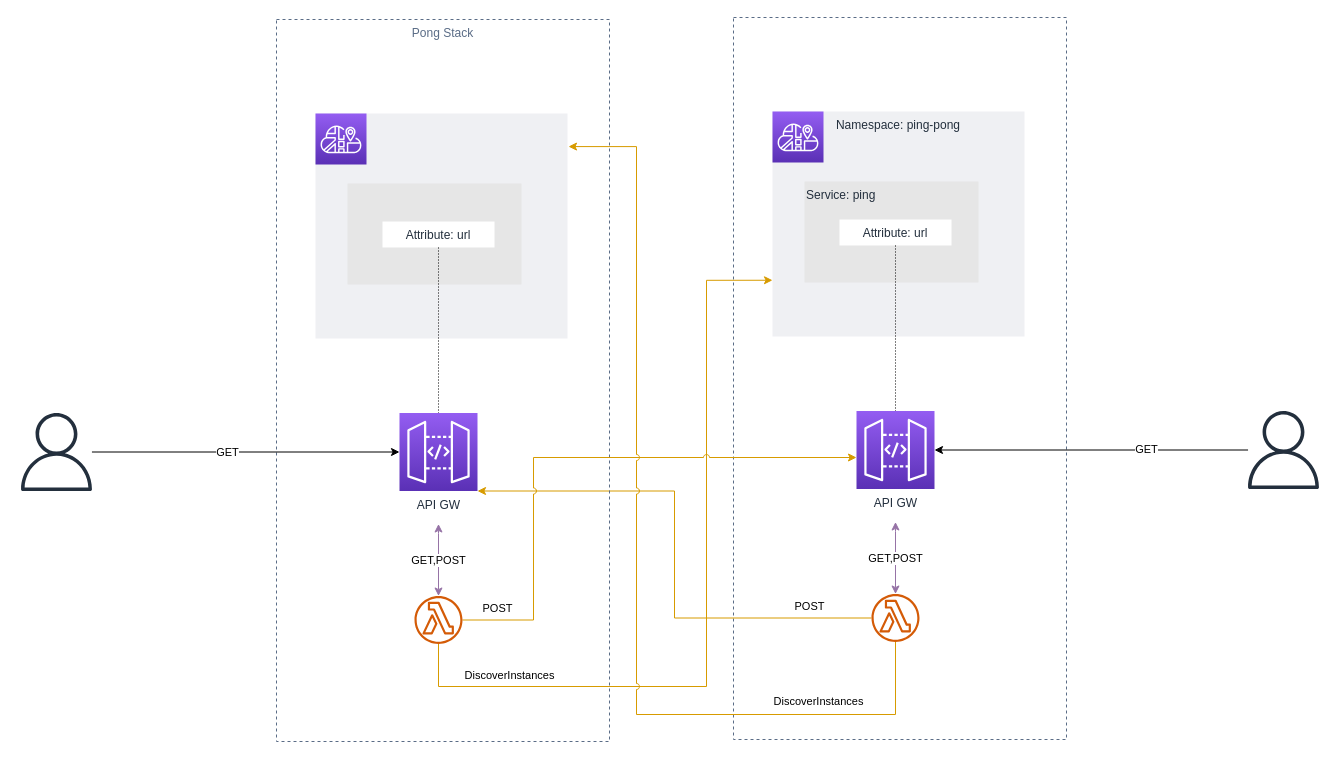
Image size: 1339x759. Some labels were removed from this diagram. Each missing label, with the box of its shape:
Namespace: pong-ping: (315, 113, 567, 338)
Ping Stack: (732, 16, 1066, 740)
Service: pong: (347, 183, 521, 284)
